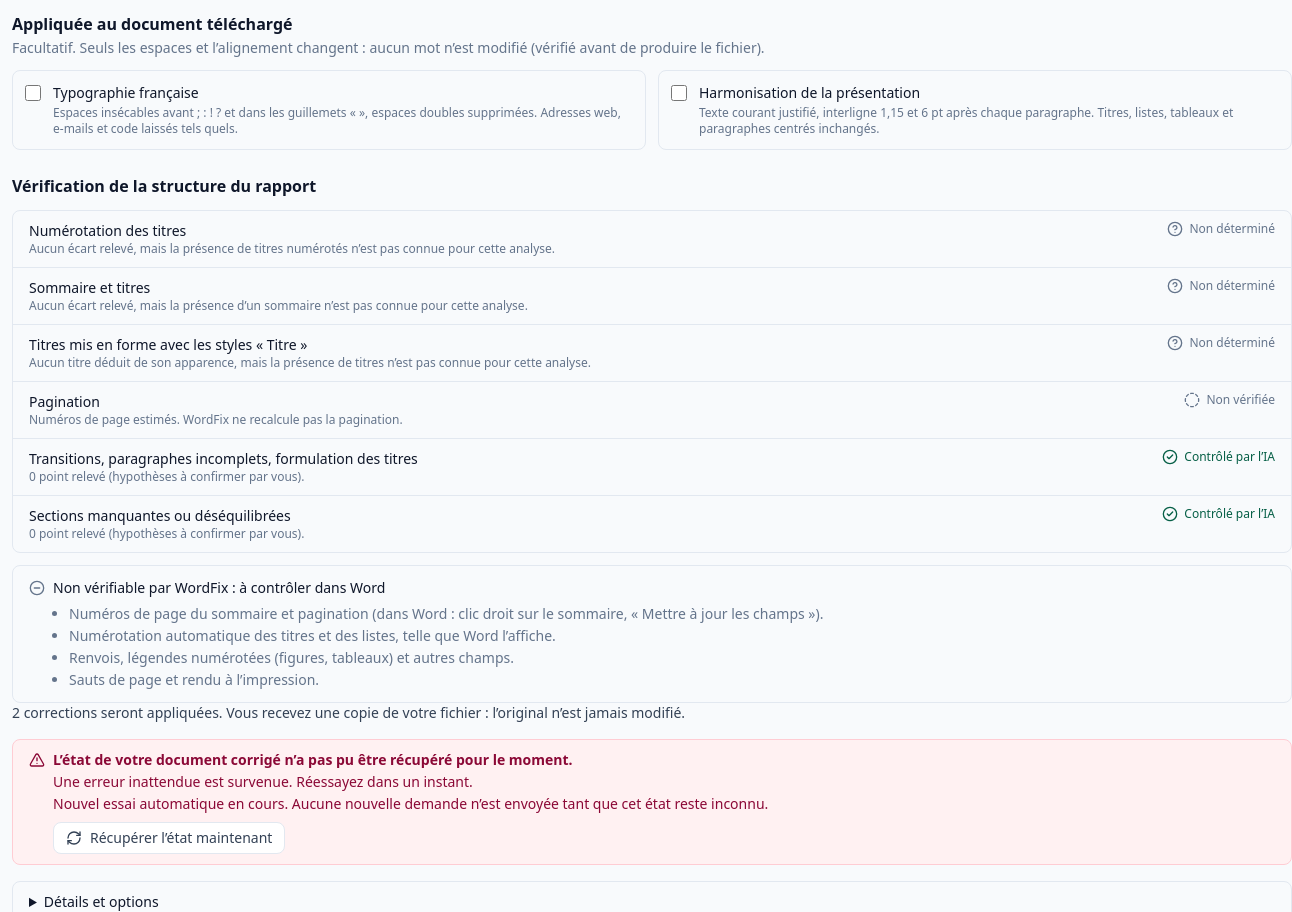
Test: Action principale « Corriger et télécharger » › état de l’export suivi indisponible (erreur passagère) : message, aucune nouvelle demande, reprise
Expected: the text "L’état de votre document corrigé n’a pas pu être récupéré" is shown, top-left (53, 750), bottom-right (572, 769)
Expected: the text "Aucune nouvelle demande n’est envoyée" is shown, top-left (53, 794), bottom-right (768, 813)
What coordinates should you click on to do the following:
click the button "Récupérer l’état maintenant"
I would click on:
 (169, 838)
Its box is top-left (53, 822), bottom-right (285, 854).
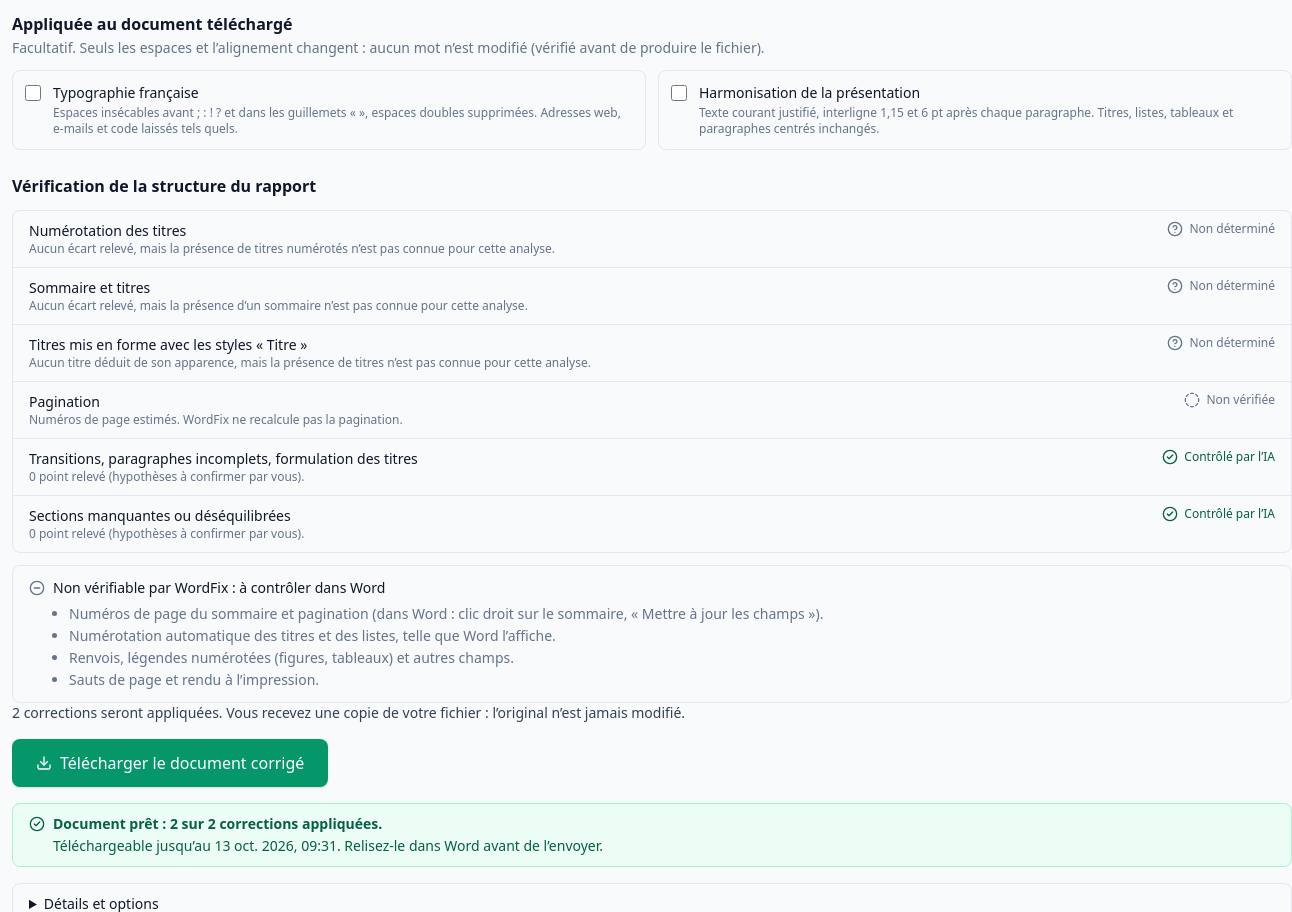
Expected: the text "Document prêt : 2 sur 2 corrections appliquées." is shown, top-left (53, 814), bottom-right (382, 833)
